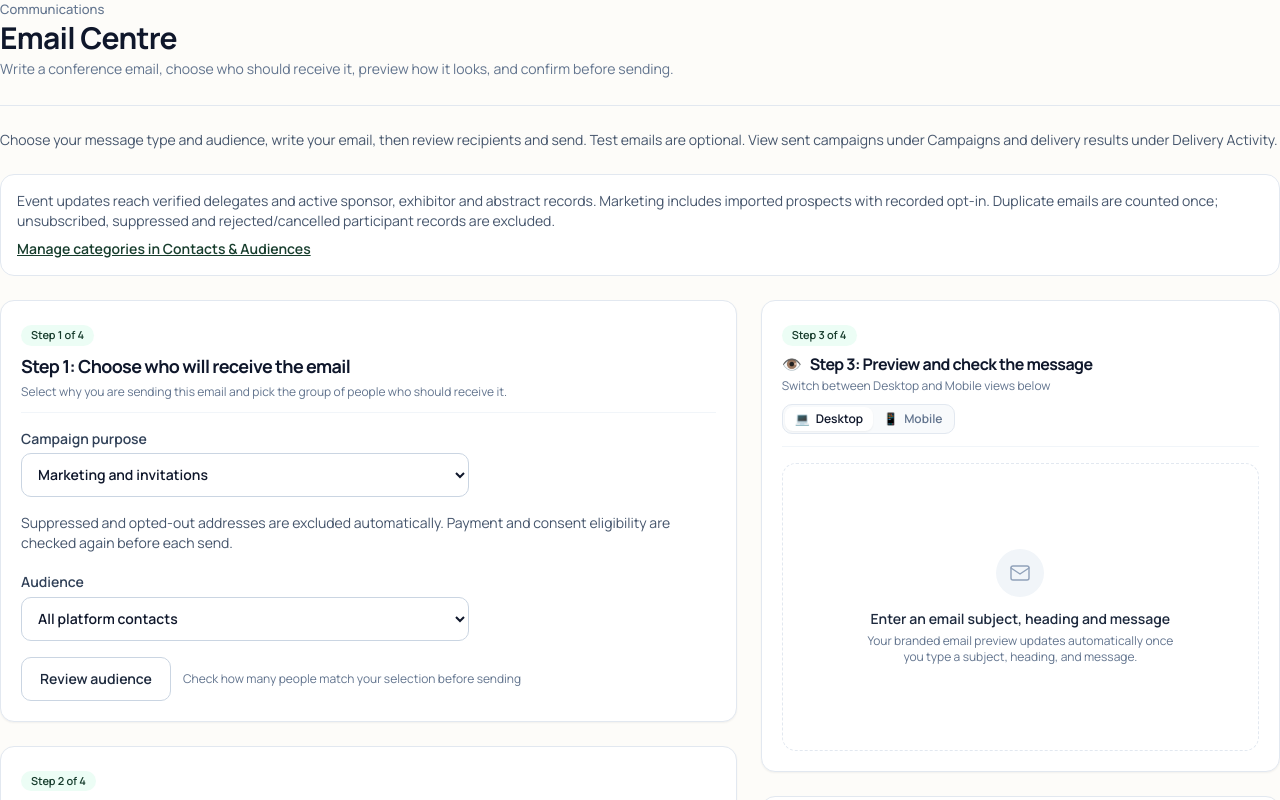
Test: Communications Centre › does not infer directory totals from a legacy sendable-only response
The image size is (1280, 800).
Click the button "Review audience": (96, 678) [21, 656, 171, 700]
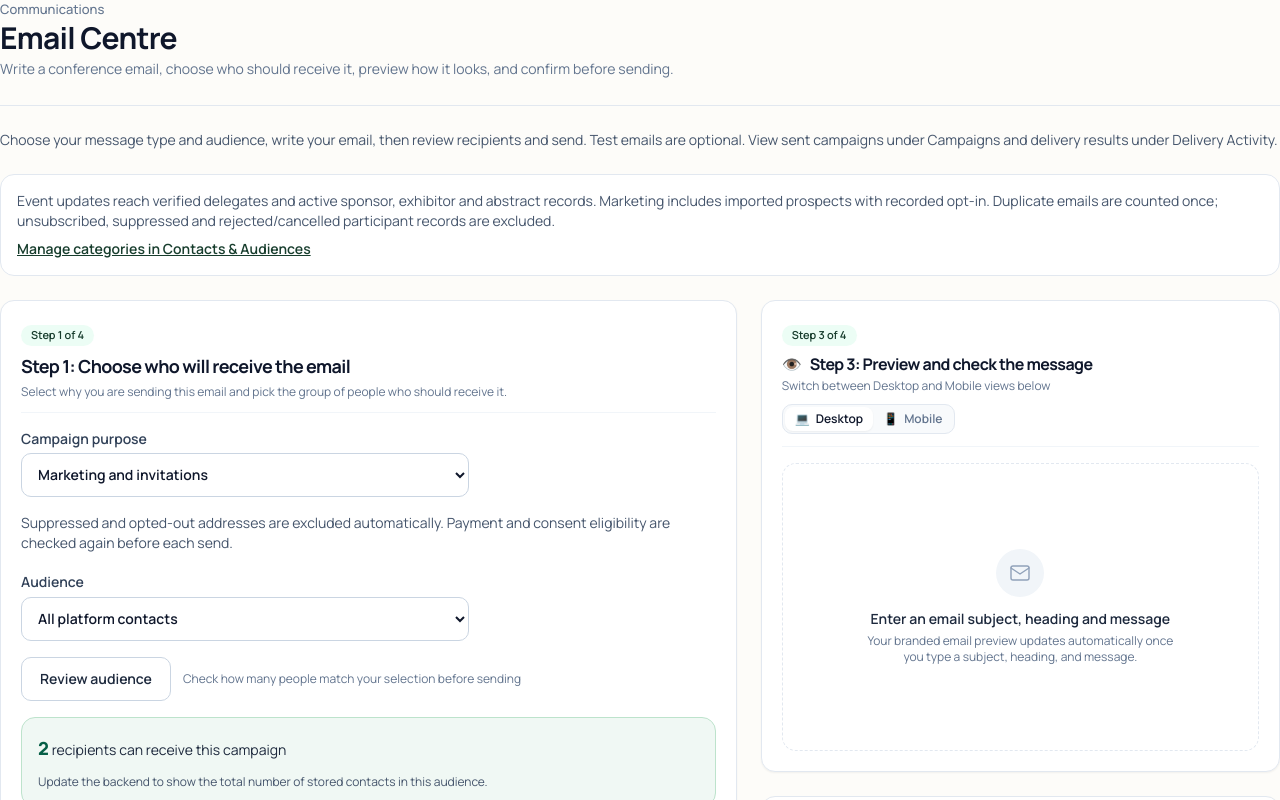
Check: the text "2 recipients can receive this campaign" is shown, box [38, 736, 286, 760]
Check: the text "Update the backend to show the total number" is shown, box [38, 772, 488, 790]
